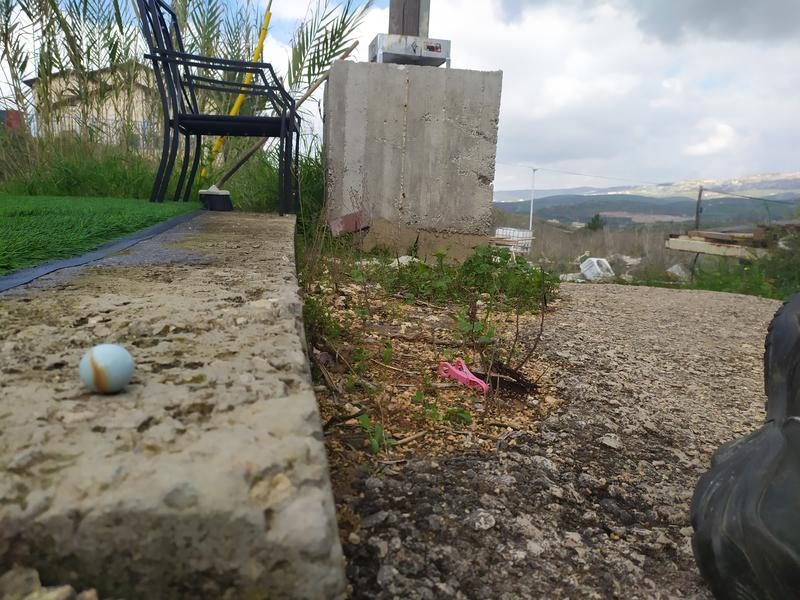Warning: (77, 341, 138, 397)
